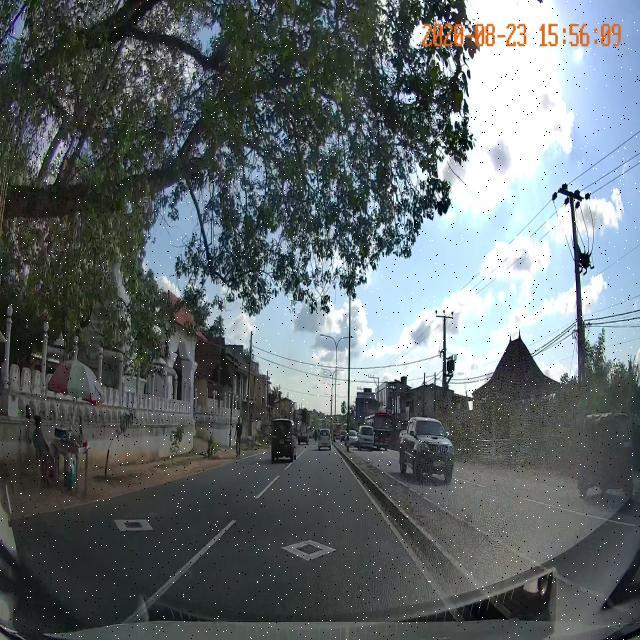diamond: (154, 518, 437, 583)
